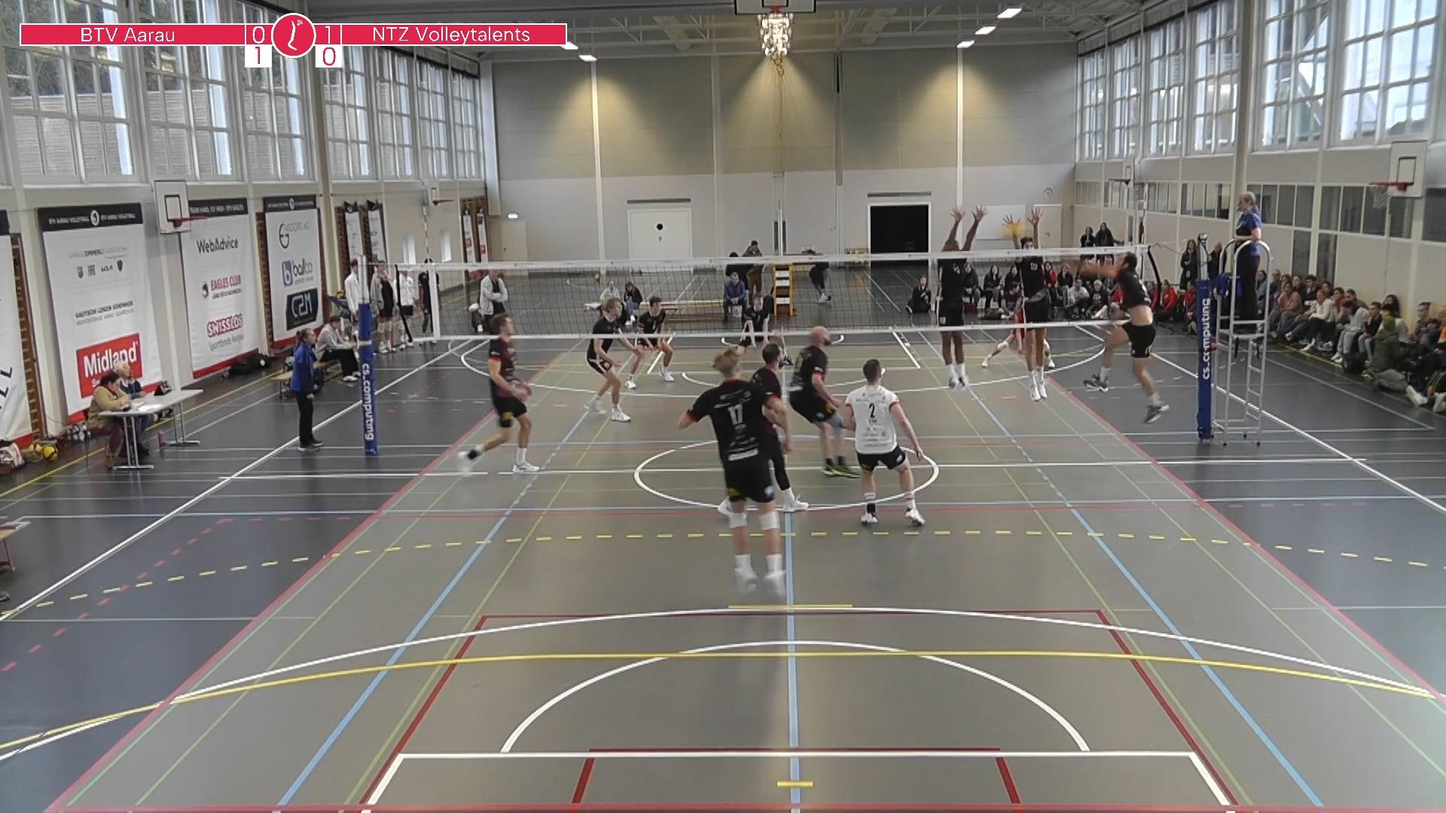attacco: (1068, 248, 1185, 429)
muro: (924, 203, 986, 395), (1003, 201, 1056, 411)
